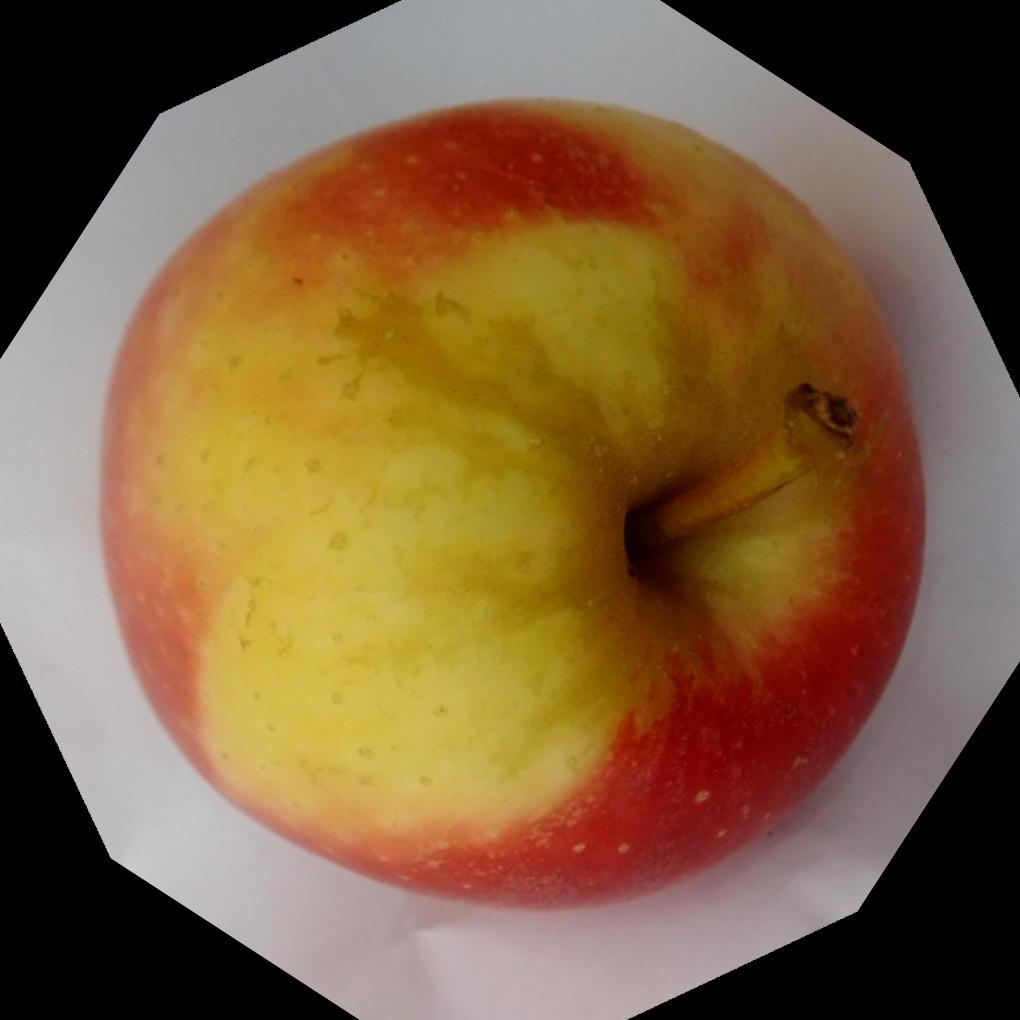FreshGuava: (99, 97, 932, 916)
